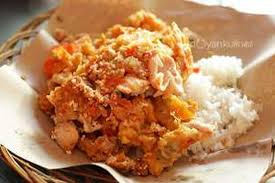ayam_geprek: (40, 29, 201, 168)
